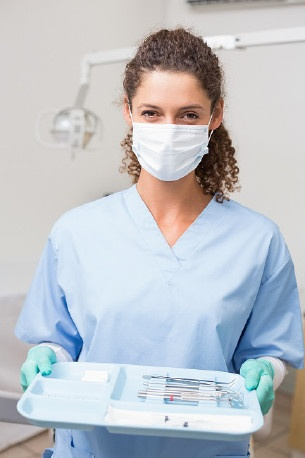Mask: (132, 100, 211, 180)
